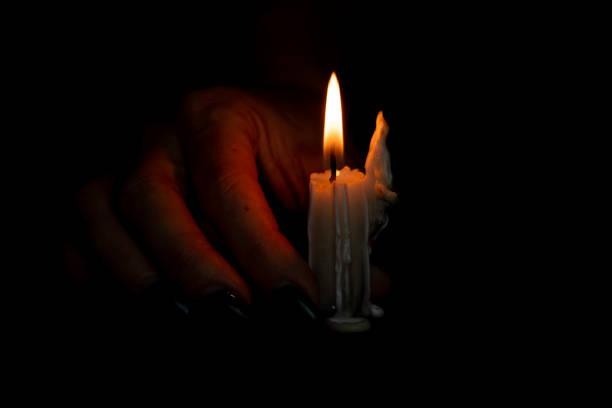Fire: (321, 70, 346, 170)
